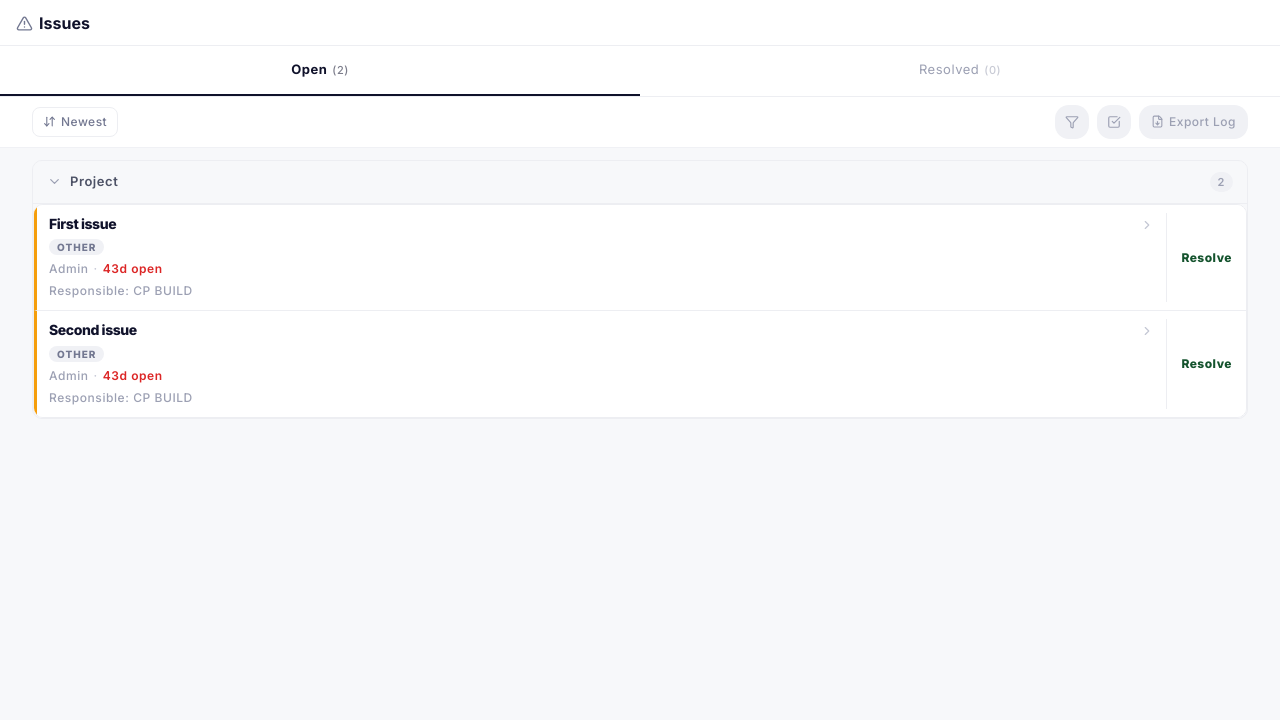
Test: IssuesLogClient PDF export selection › cancels an in-progress PDF export and dismisses the overlay
This screenshot has width=1280, height=720.
Check: the text "First issue" is shown, box [49,215,116,232]
Click the button with aria-label "Export issues as PDF": (1194, 122) [1139,105,1248,139]
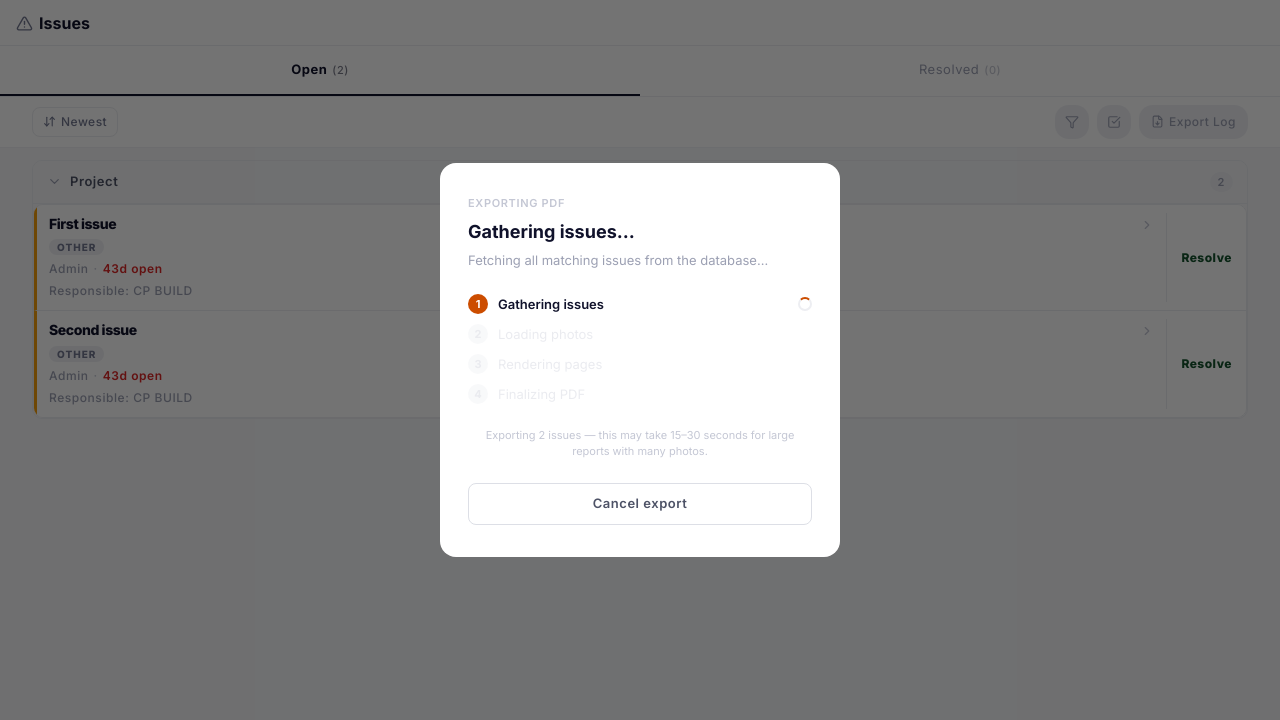
Check: the button "Cancel export" is shown
Click the button "Cancel export": (640, 504) [468,483,812,525]
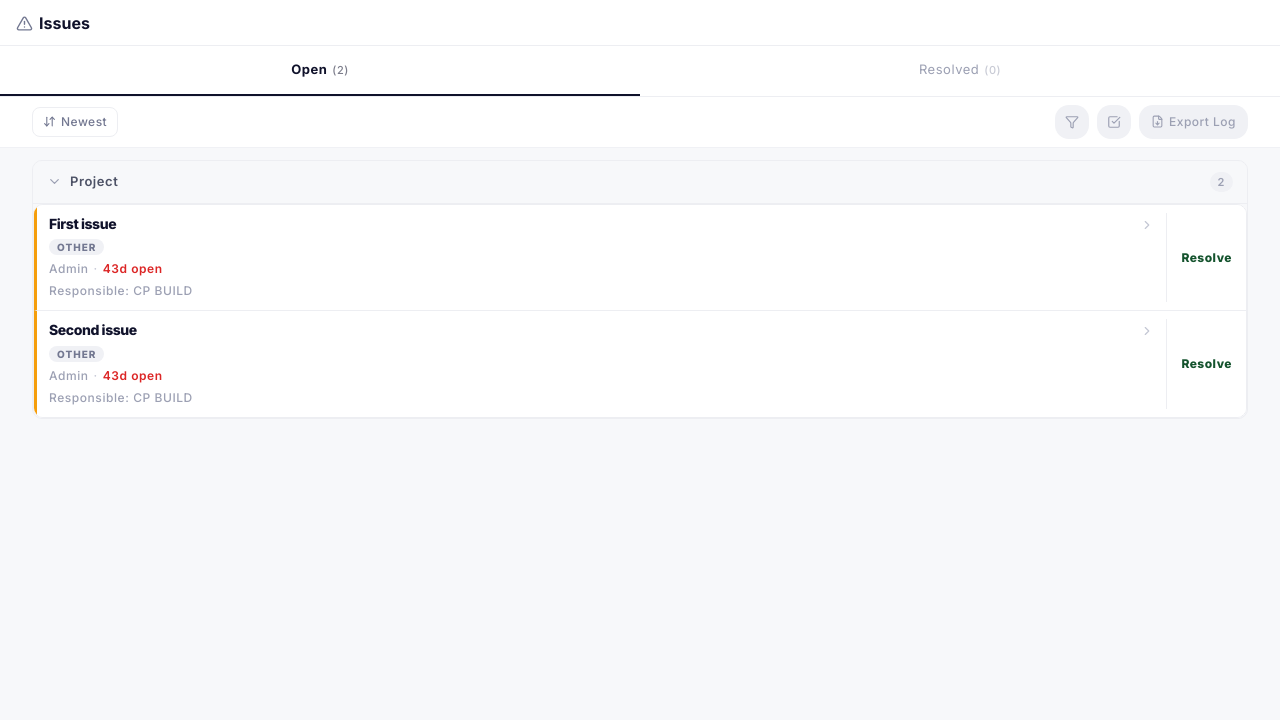
Check: the text "Exporting PDF" is gone
